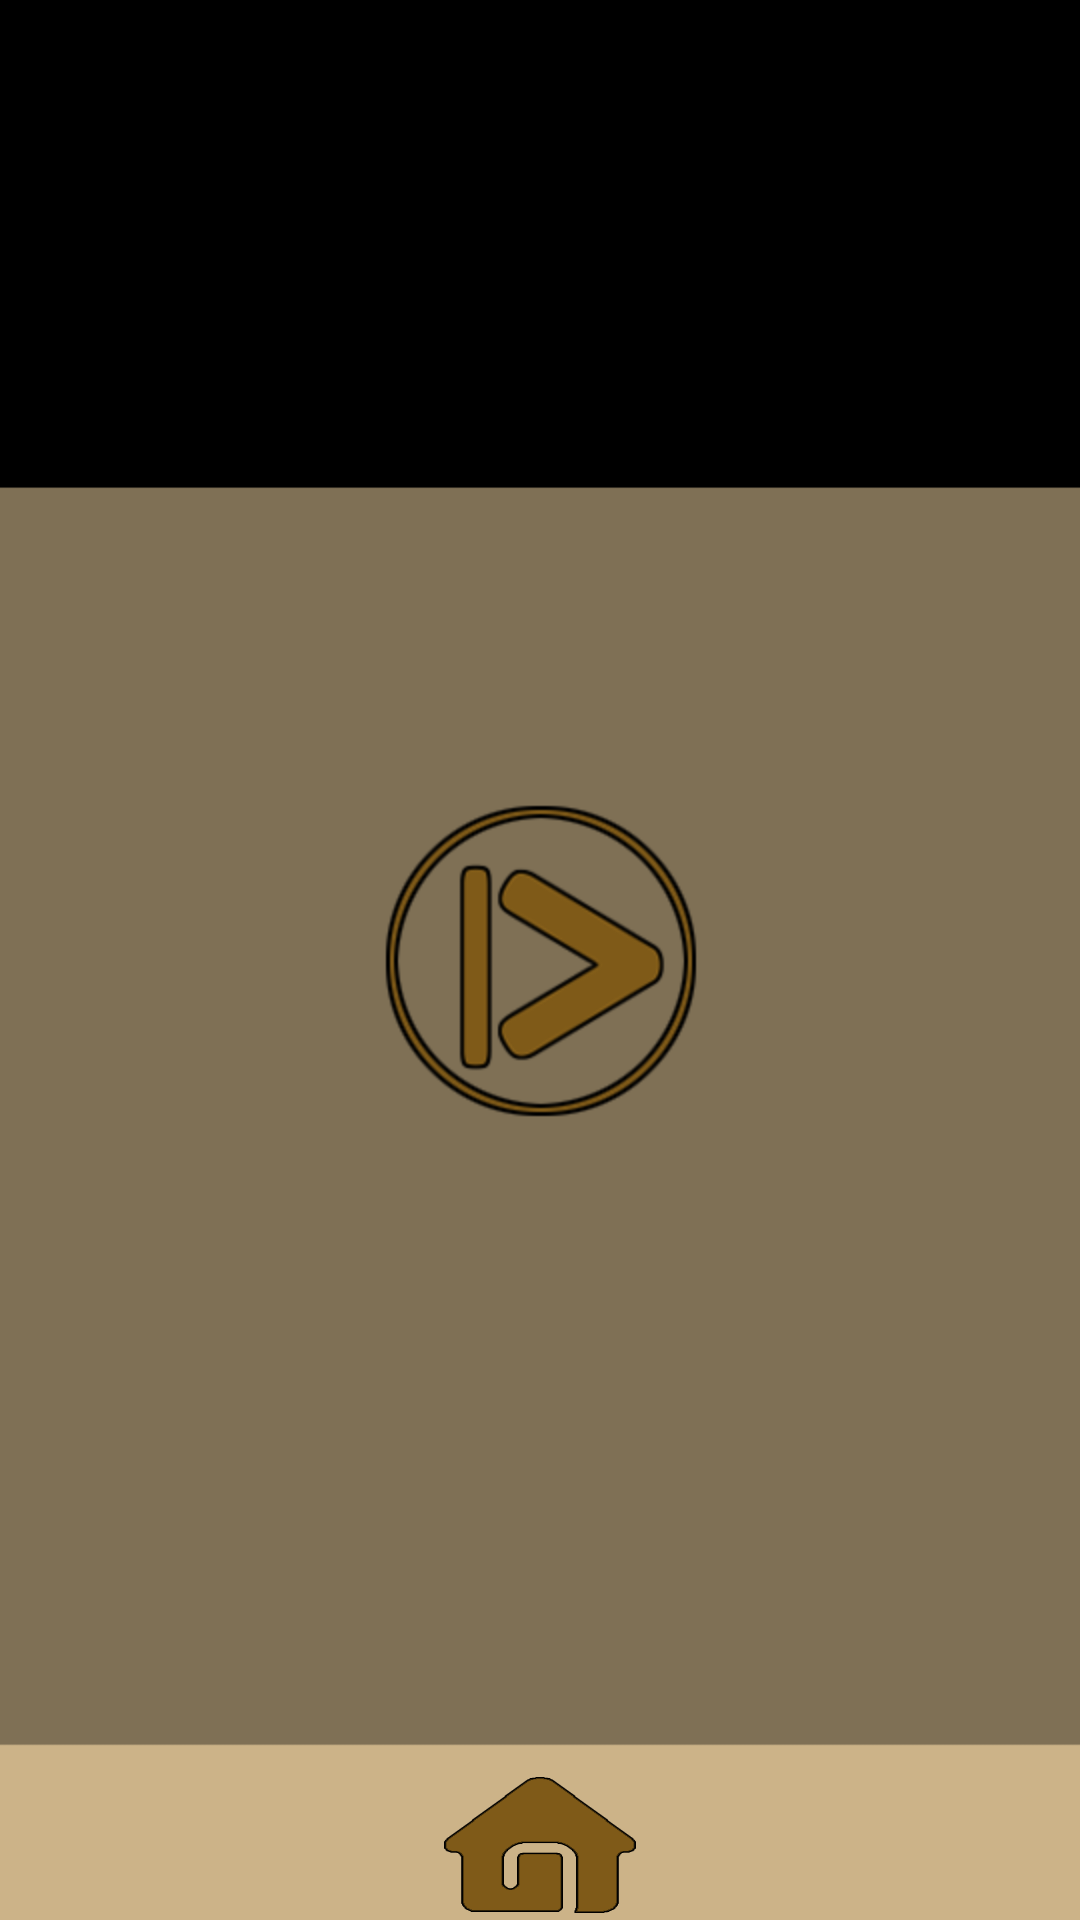

Icons on this 1080px x 1920px Android screen, each with its box as (x1, y1, x2, y2):
menu: (444, 1777, 636, 1913)
resume: (385, 805, 697, 1117)
